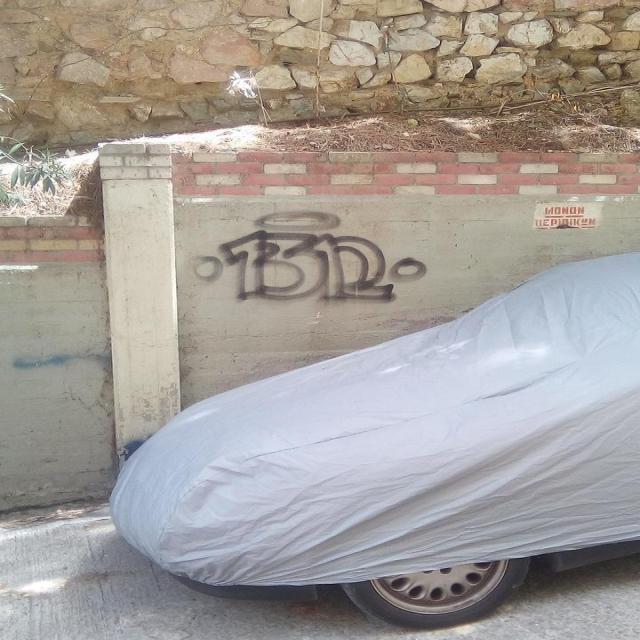nonspitting: (196, 210, 430, 304)
